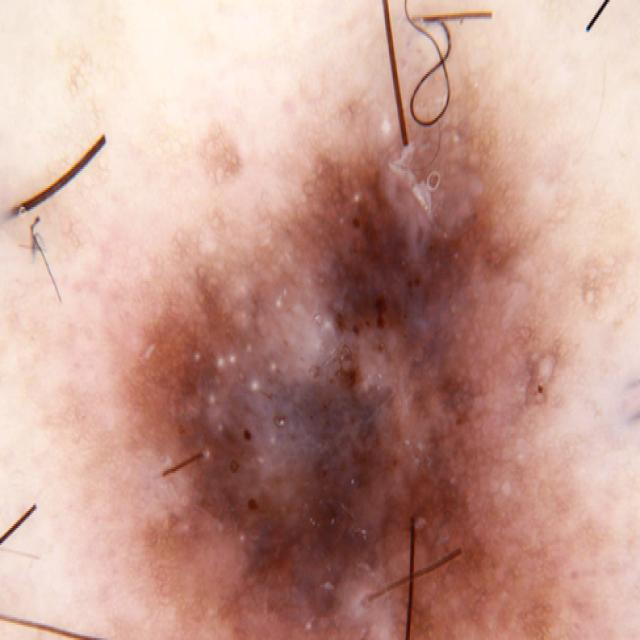Dermatofibroma: (132, 92, 569, 619)
